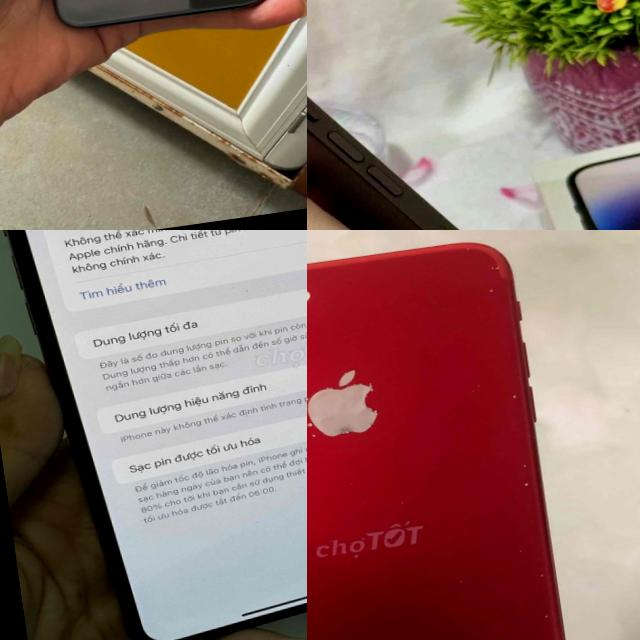scratch: (307, 355, 383, 445), (464, 234, 518, 298), (522, 563, 565, 640), (508, 448, 536, 493), (492, 384, 524, 409), (448, 566, 472, 588), (509, 539, 529, 558), (408, 620, 423, 632), (307, 625, 312, 640)
